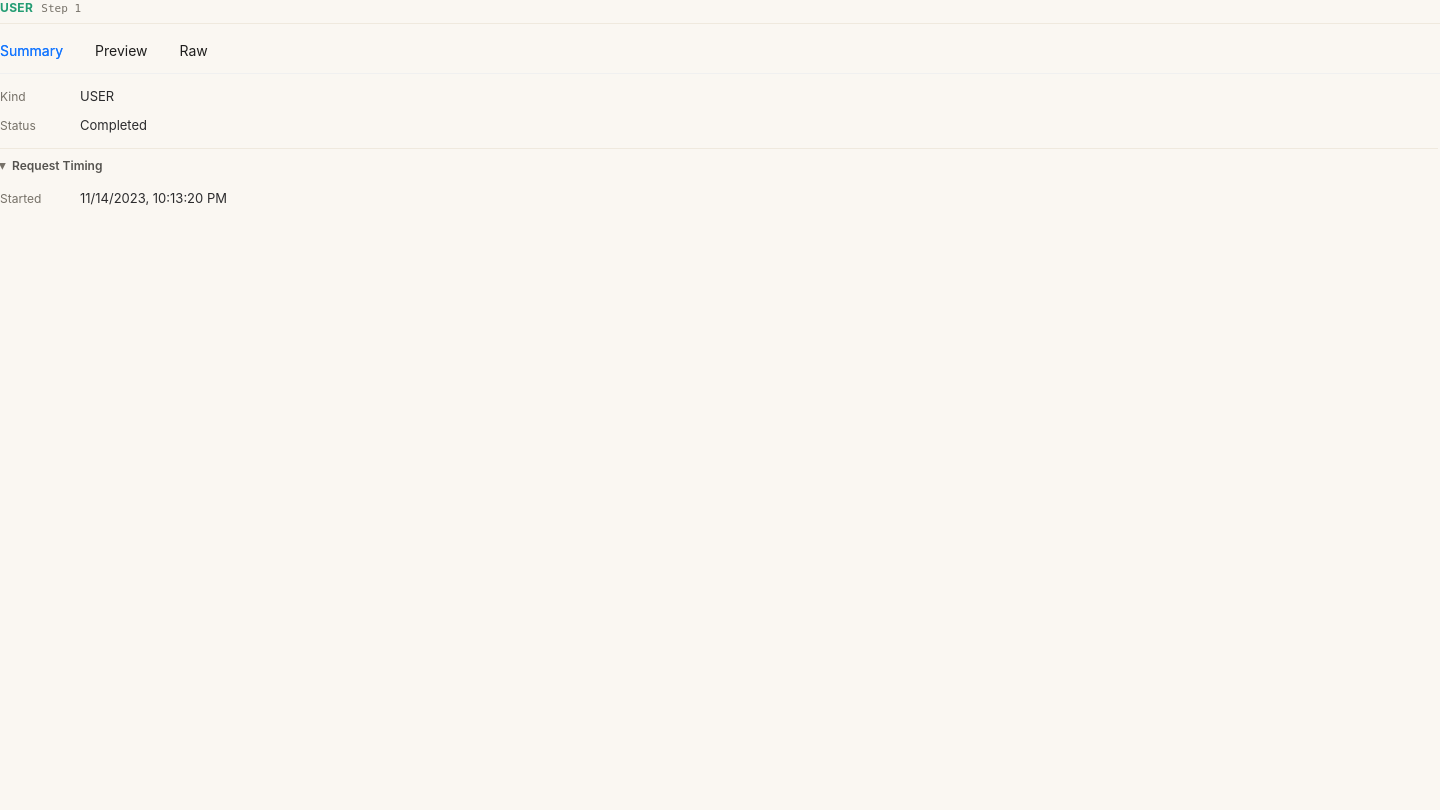
Test: TrajectoryInspector › loads event detail on the Raw tab
The width and height of the screenshot is (1440, 810).
Click the tab "Raw" at coordinates (194, 51), box [180,40,208,62]
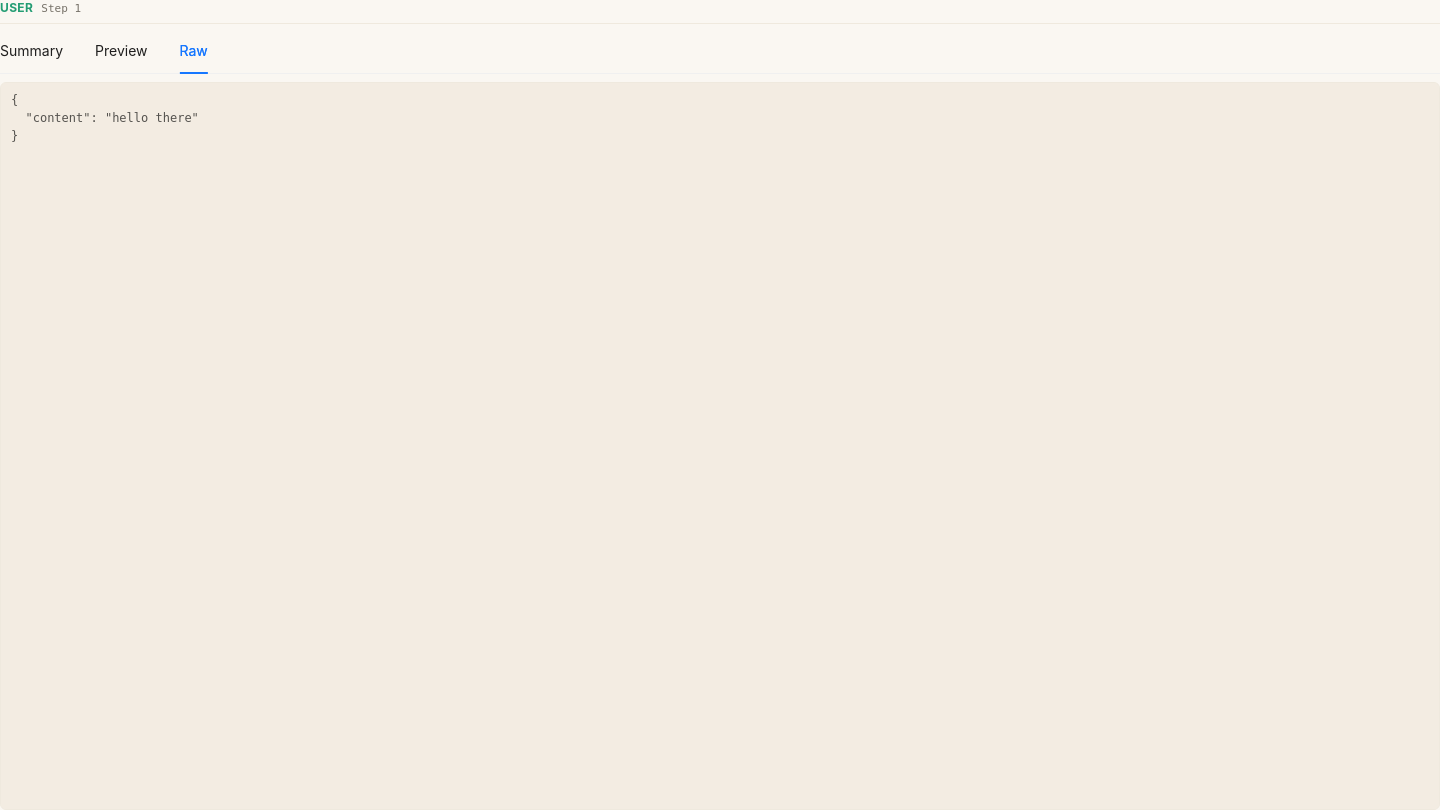
Expected: the text with test id "trajectory-raw" shows "\"content\": \"hello there\"", [11,93,199,143]
